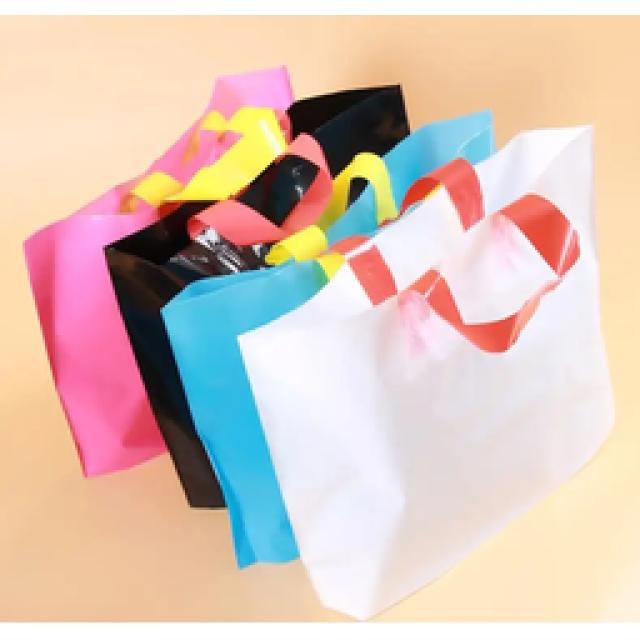plastic: (162, 112, 612, 618), (25, 68, 408, 505), (410, 192, 578, 350)
